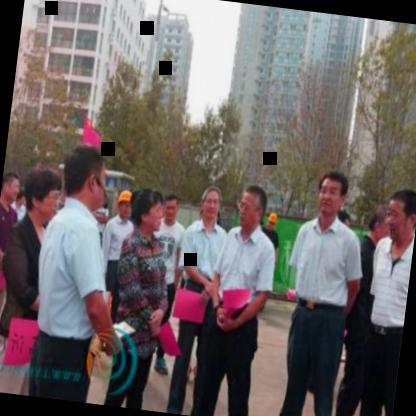head: (57, 140, 110, 216), (19, 161, 64, 229), (310, 165, 352, 227), (124, 180, 164, 240), (380, 185, 416, 250), (232, 178, 272, 233), (361, 202, 391, 248), (196, 183, 226, 228), (0, 167, 24, 206), (160, 192, 182, 226)
helmet: (113, 184, 139, 221), (263, 206, 284, 234)
